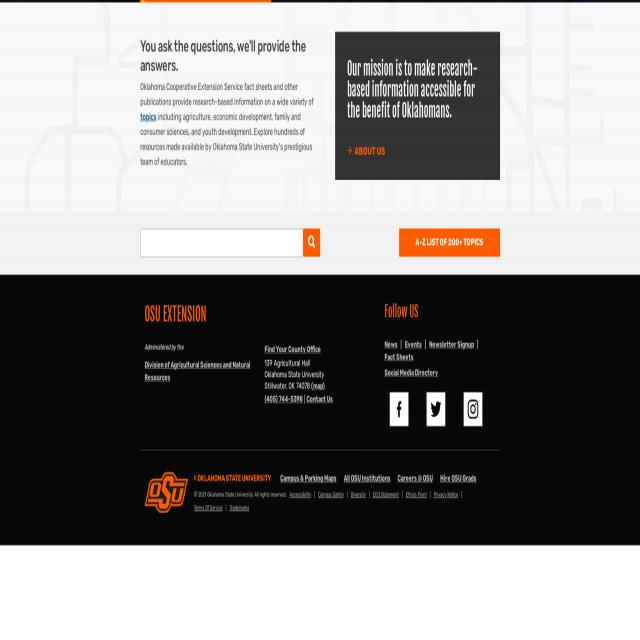button: (399, 228, 500, 256), (144, 473, 188, 512), (384, 392, 414, 426), (458, 392, 488, 426), (422, 392, 451, 426), (303, 228, 321, 257)
field: (140, 228, 304, 258)
